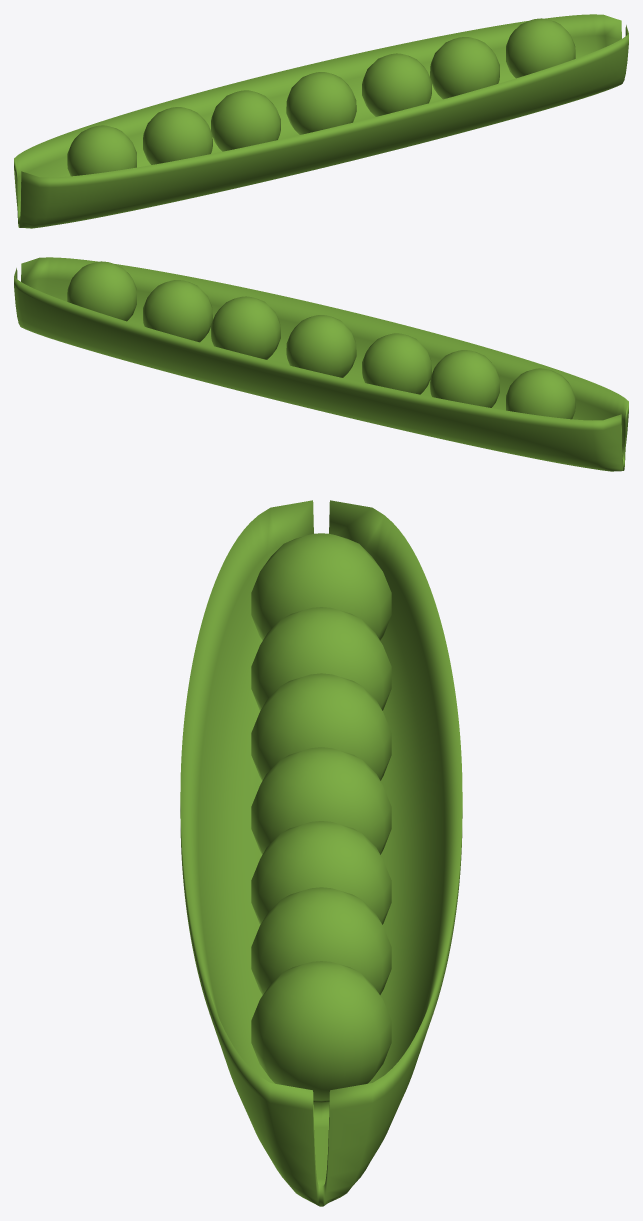
File: NEW_RECOVERY_036_LOD1.fbx
The picture shows the model from 3 angles, top to bottom: view 1: azimuth 30°, elevation 25°; view 2: azimuth 150°, elevation 25°; view 3: azimuth 270°, elevation 25°; orthographic projection. The views are drawn at different scales.
Parts seen in each view (by area): view 1: Whole_open_pea_pod; view 2: Whole_open_pea_pod; view 3: Whole_open_pea_pod.
Boxes of the visible parts, x1,y1,x2,y2 form: Whole_open_pea_pod: (14, 14, 628, 228); Whole_open_pea_pod: (14, 257, 628, 471); Whole_open_pea_pod: (180, 500, 462, 1206).
Size of the model in its own units: 1000 by 202 by 125.
